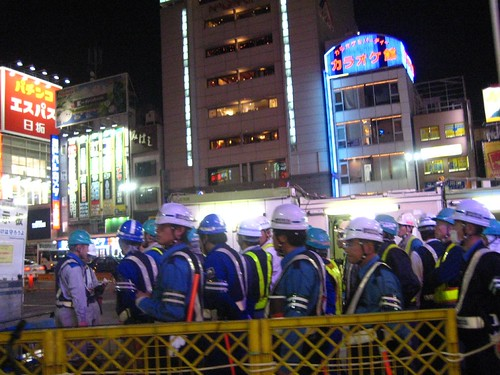person hardhat: (451, 203, 500, 371), (195, 205, 250, 321), (266, 199, 319, 315), (343, 215, 404, 315), (153, 202, 203, 320), (106, 219, 163, 313), (378, 214, 421, 306), (56, 229, 97, 324), (304, 227, 346, 315), (236, 210, 269, 312), (429, 207, 464, 296), (413, 210, 445, 304), (250, 206, 284, 291), (398, 210, 425, 282), (138, 211, 162, 286), (478, 214, 500, 256)
